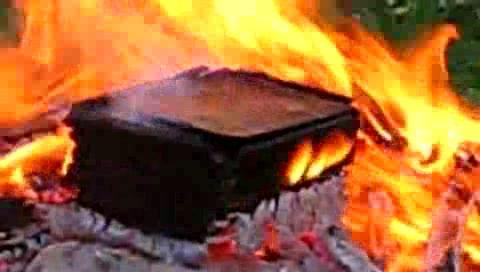fire: (13, 3, 457, 165)
